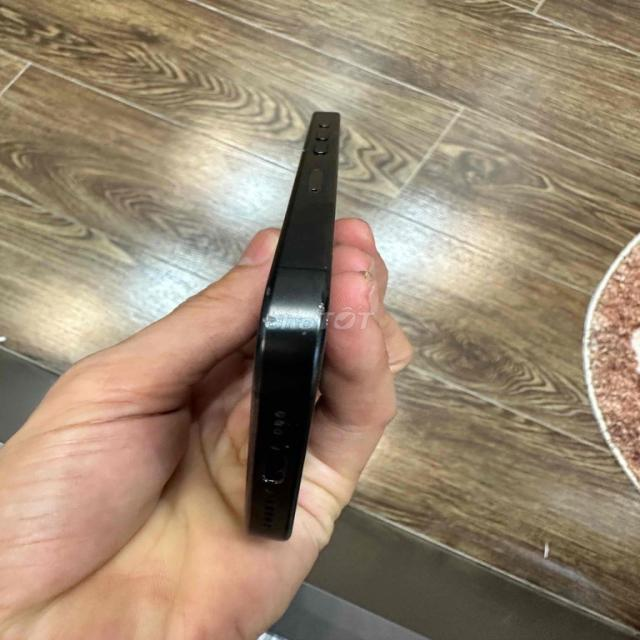gen_15: (247, 103, 345, 546)
scratch: (316, 300, 329, 326), (262, 313, 278, 325), (264, 284, 272, 296), (302, 328, 307, 334), (322, 264, 328, 269), (302, 148, 306, 153)
